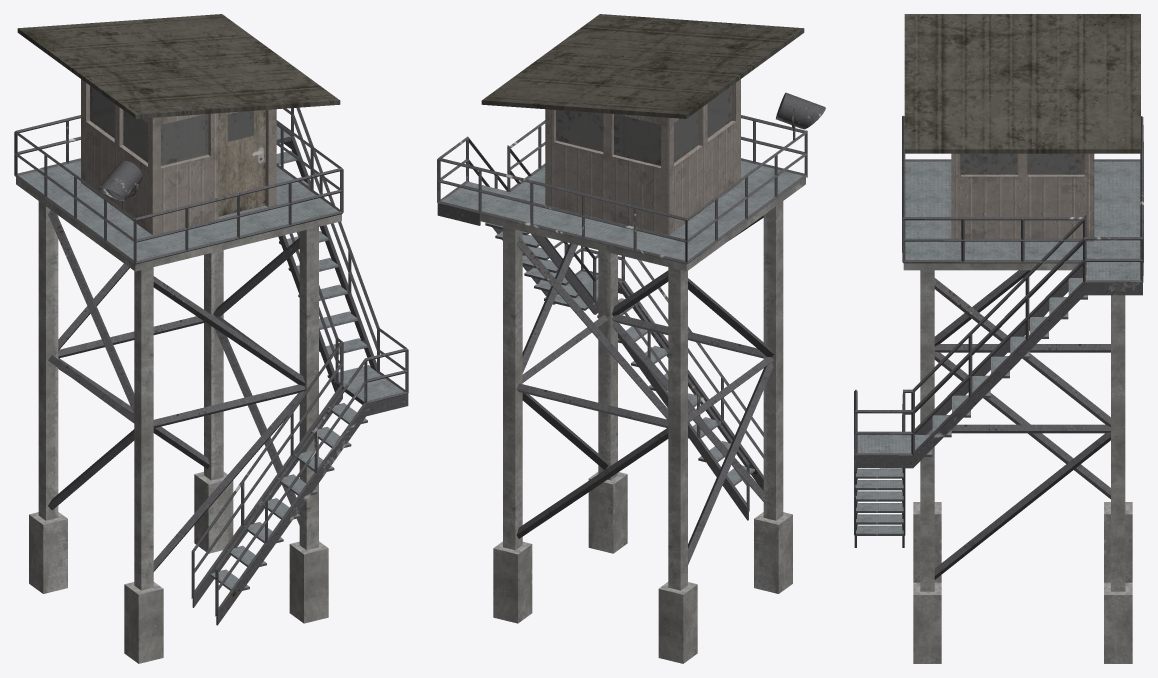
File: tower.glb
3 renders of one model, left to right at view 1: azimuth 30°, elevation 25°; view 2: azimuth 150°, elevation 25°; view 3: azimuth 270°, elevation 25°, orthographic.
Visible parts, largest first — view 1: defaultMaterial; view 2: defaultMaterial; view 3: defaultMaterial.
Part boxes in pixels (x1=…): defaultMaterial: x1=14, y1=14, x2=408, y2=663; defaultMaterial: x1=437, y1=14, x2=825, y2=663; defaultMaterial: x1=854, y1=14, x2=1143, y2=663.
Bounding box in the file's own units: 3.71 × 7.12 × 3.38.
Materials: 1 (1 with a texture image).
